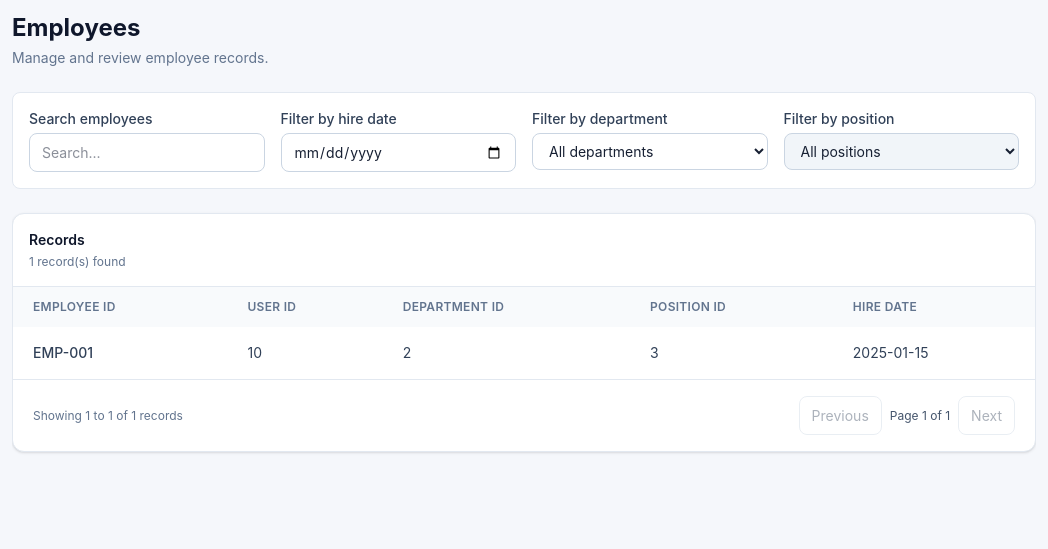
Scenario: EmployeesPage › displays an empty state when no positions are available
Select "Engineering" in the dropdown labelled "Filter by department" at (650, 152), box [532,133,768,170]
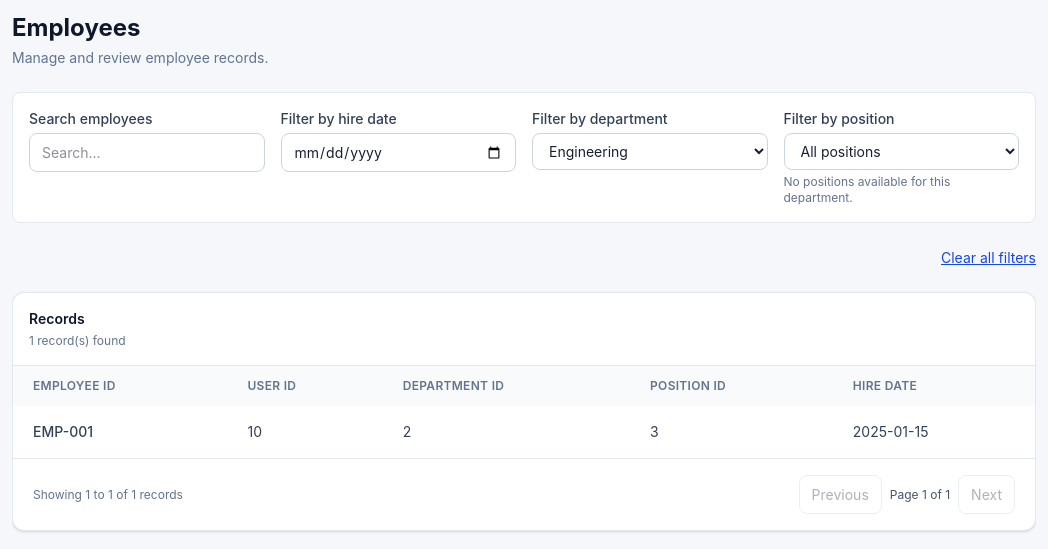
Result: the text "No positions available for this department." is shown at [784,174,950,205]
